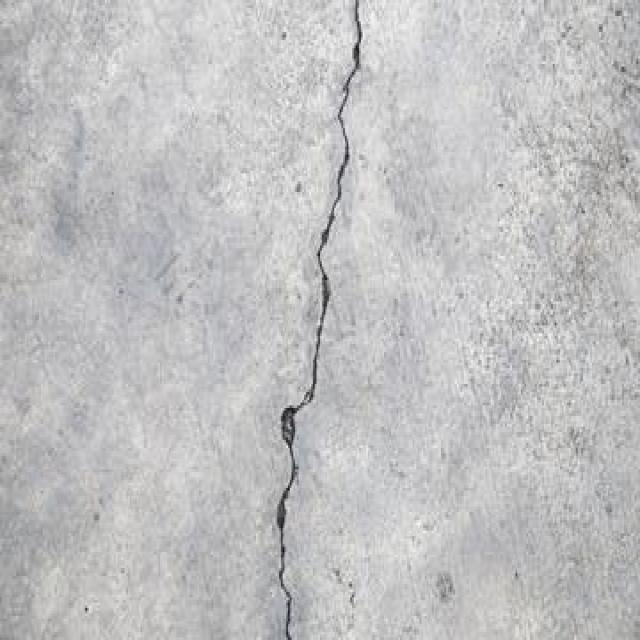diagonal crack: (274, 0, 361, 637)
